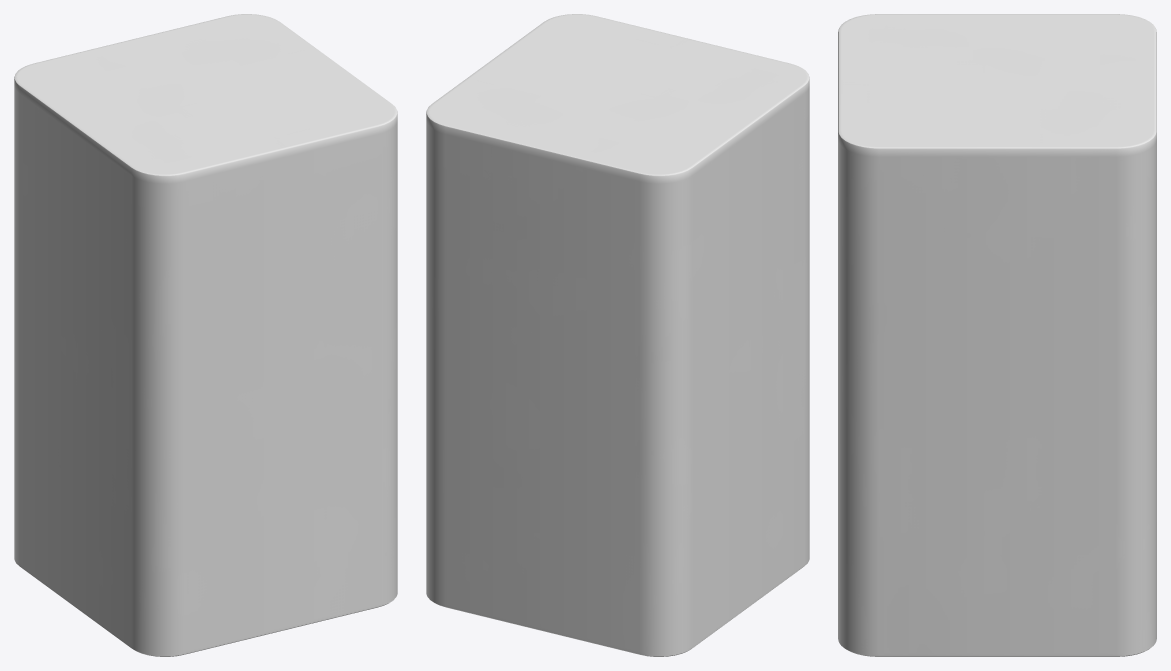
The model's file is picket_t.dae.
3 views of the same model, side by side, from view 1: azimuth 30°, elevation 25°; view 2: azimuth 150°, elevation 25°; view 3: azimuth 270°, elevation 25° (orthographic). The views are drawn at different scales.
Parts seen in each view (by area): view 1: picket_t; view 2: picket_t; view 3: picket_t.
Part boxes in pixels (x1,y1,x2,y2): picket_t: [14, 14, 397, 656]; picket_t: [426, 14, 809, 656]; picket_t: [838, 14, 1156, 656].
Size of the model in its own units: 0.397 by 0.7 by 0.397.
